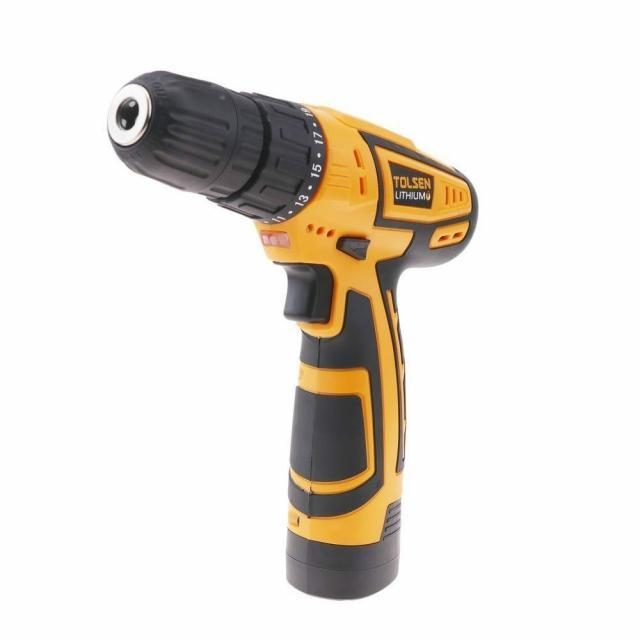drill: (107, 70, 480, 601)
